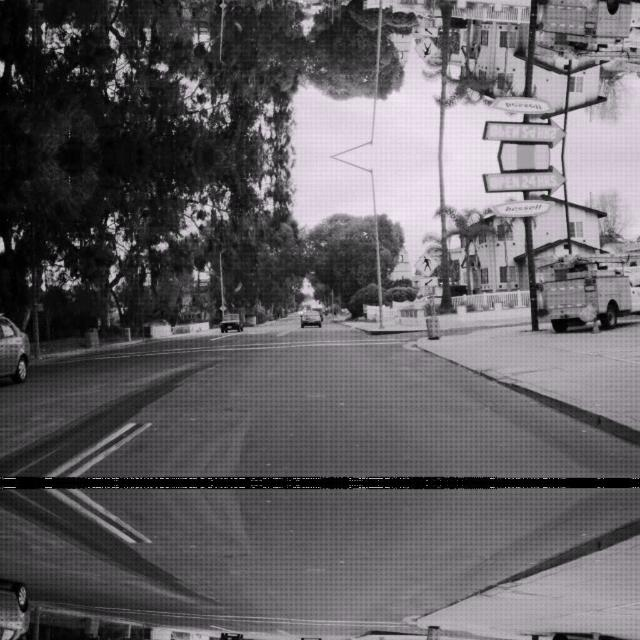pedestrianCrossing: (412, 250, 438, 276), (412, 36, 438, 62)
